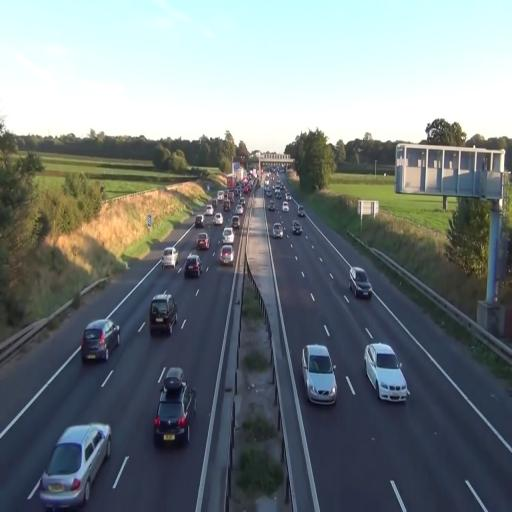vehicle: (39, 422, 112, 510), (364, 342, 410, 404), (153, 386, 192, 445), (302, 344, 338, 406), (82, 317, 120, 364), (149, 292, 178, 336), (82, 320, 108, 364), (350, 266, 372, 300), (161, 247, 179, 270), (184, 254, 201, 278), (217, 244, 234, 266), (194, 233, 210, 251), (272, 221, 284, 238), (292, 221, 302, 236)
